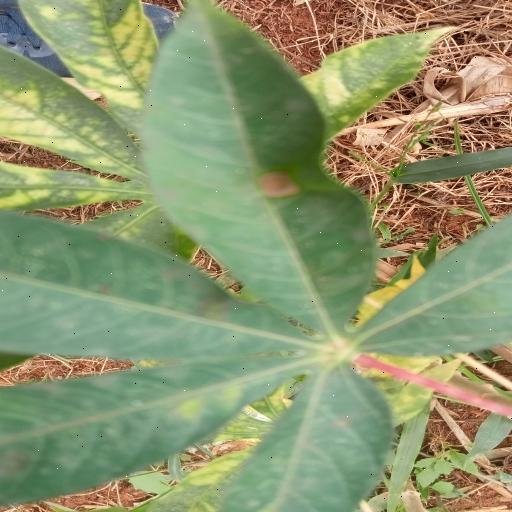Cassava_Brown_Leaf_Spot: (1, 2, 512, 512)
